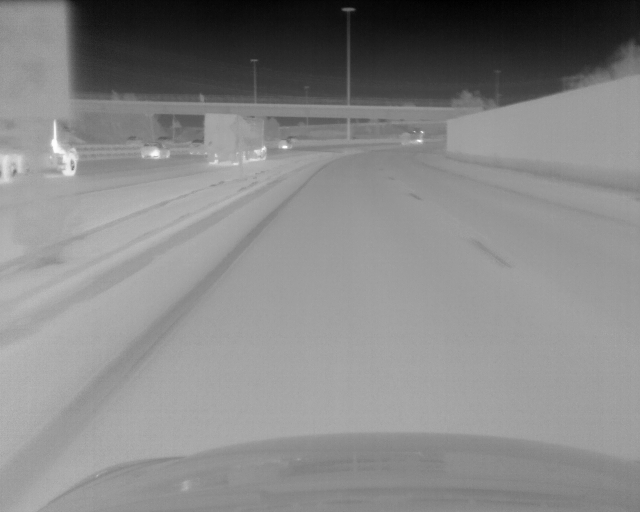car: (1, 113, 80, 183), (242, 118, 268, 162), (141, 143, 170, 160), (400, 130, 424, 145), (189, 141, 205, 155), (277, 139, 292, 149)
